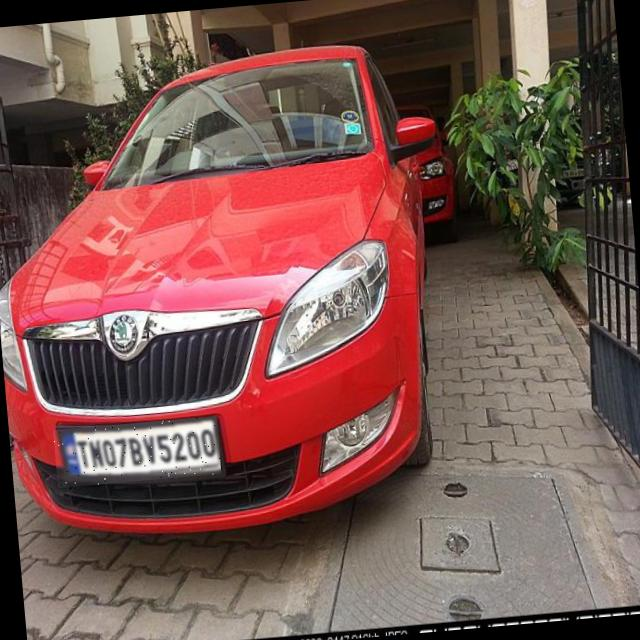Plate: (54, 417, 222, 489)
